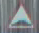Speed Breaker ahead: (5, 4, 35, 30)
